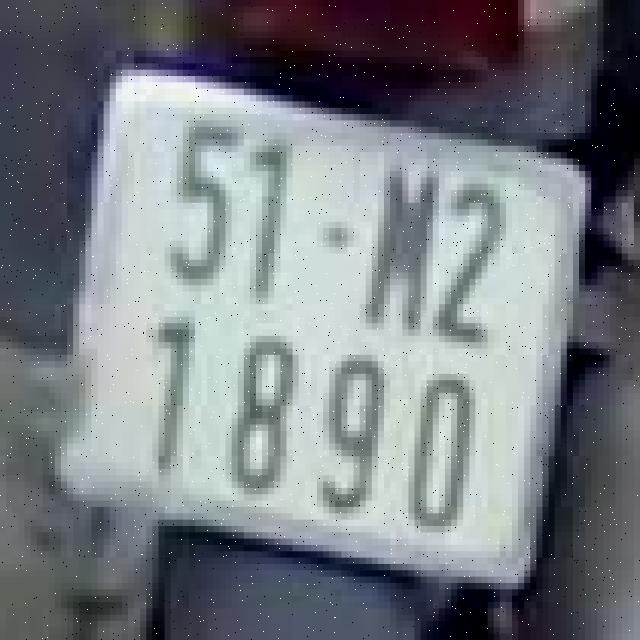0: (408, 358, 482, 529)
1: (140, 310, 201, 476), (244, 130, 298, 307)
2: (436, 178, 509, 348)
5: (168, 111, 240, 295)
8: (226, 330, 298, 500)
9: (314, 342, 393, 520)
M: (356, 149, 442, 339)
